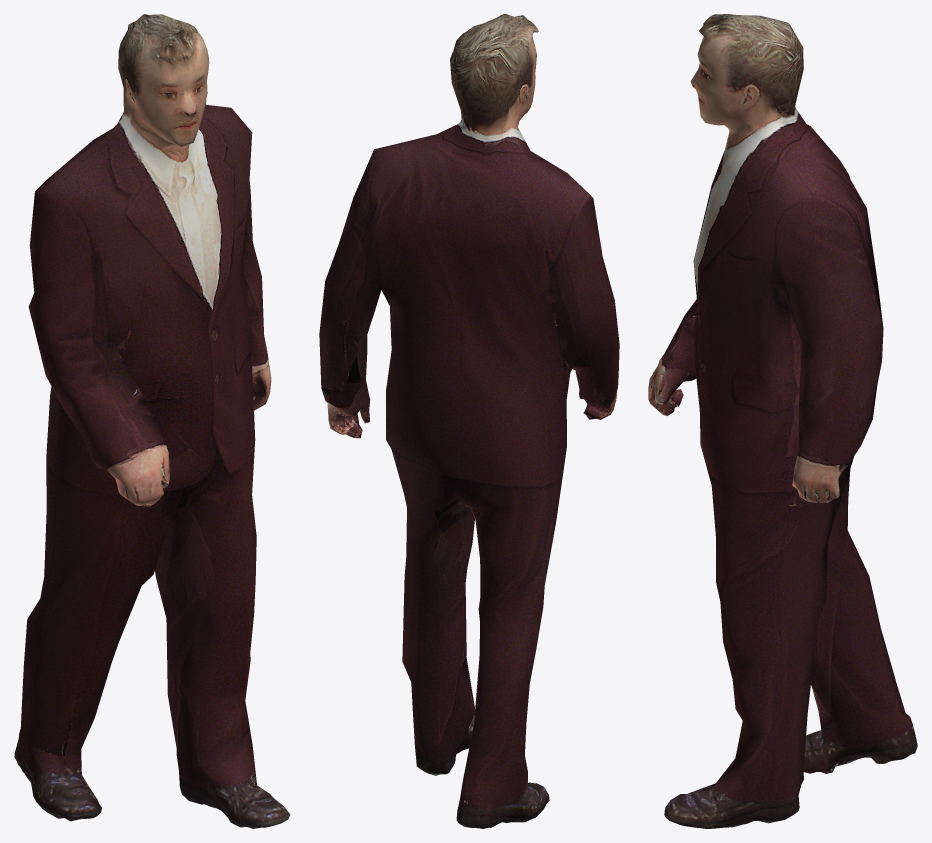
The model's file is Person_13.obj.
3 views of the same model, side by side, from view 1: azimuth 30°, elevation 25°; view 2: azimuth 150°, elevation 25°; view 3: azimuth 270°, elevation 25° (orthographic). The views are drawn at different scales.
Visible parts, largest first — view 1: Person_13; view 2: Person_13; view 3: Person_13.
Part boxes in pixels (x1,y1,x2,y2): Person_13: (14, 14, 290, 828); Person_13: (319, 14, 619, 828); Person_13: (648, 14, 917, 828).
Size of the model in its own units: 0.6044 by 1.76 by 0.5494.
1 material, 1 textured.
